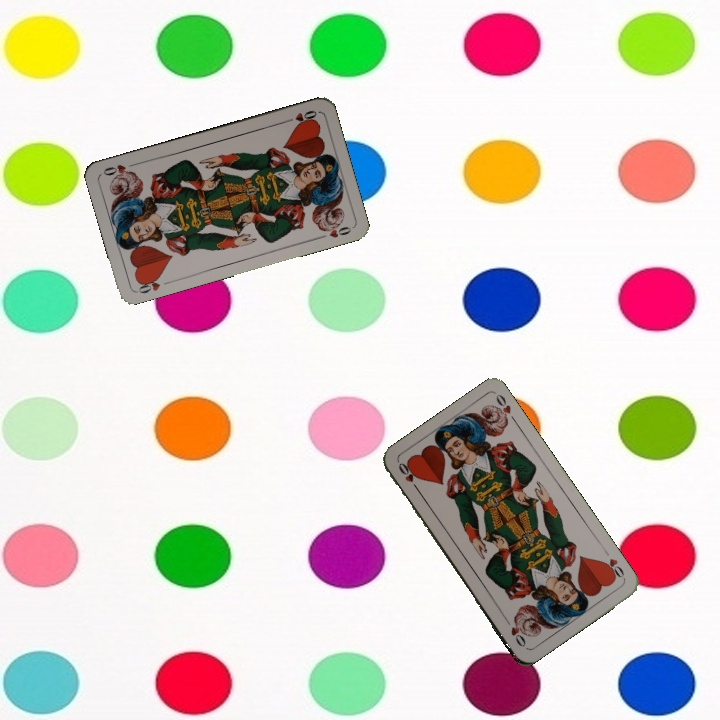HO: (598, 545, 628, 583), (394, 458, 422, 494), (280, 106, 320, 127), (133, 272, 163, 296)
